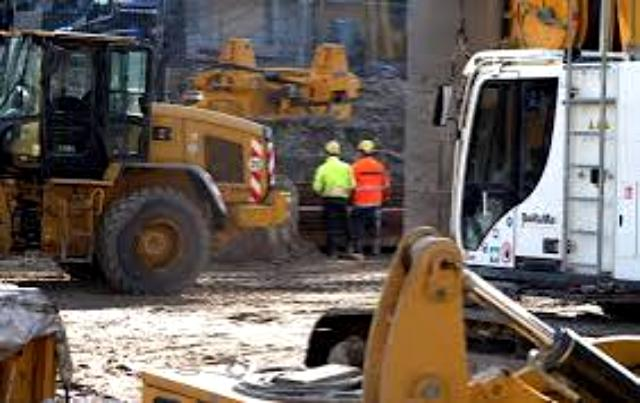helmet: (356, 137, 376, 155), (324, 140, 342, 156)
vest: (353, 159, 391, 213), (315, 162, 353, 206)
